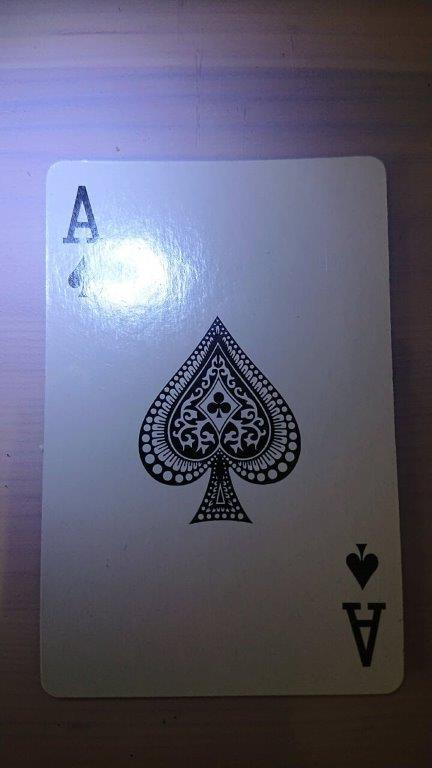AS: (36, 154, 406, 699)
